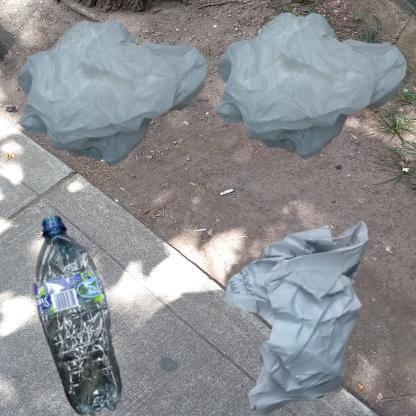bolsa: (10, 10, 219, 177), (213, 10, 409, 162)
botella: (10, 213, 162, 416)
papel: (213, 213, 402, 416)
